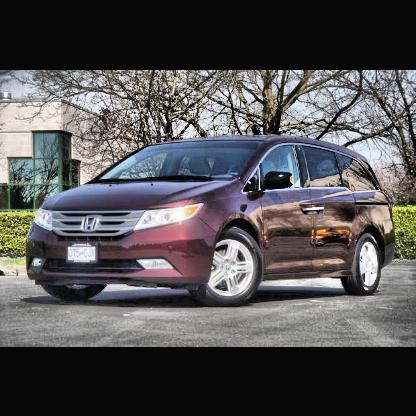Honda Odyssey Minivan 2012: (26, 136, 396, 307)
